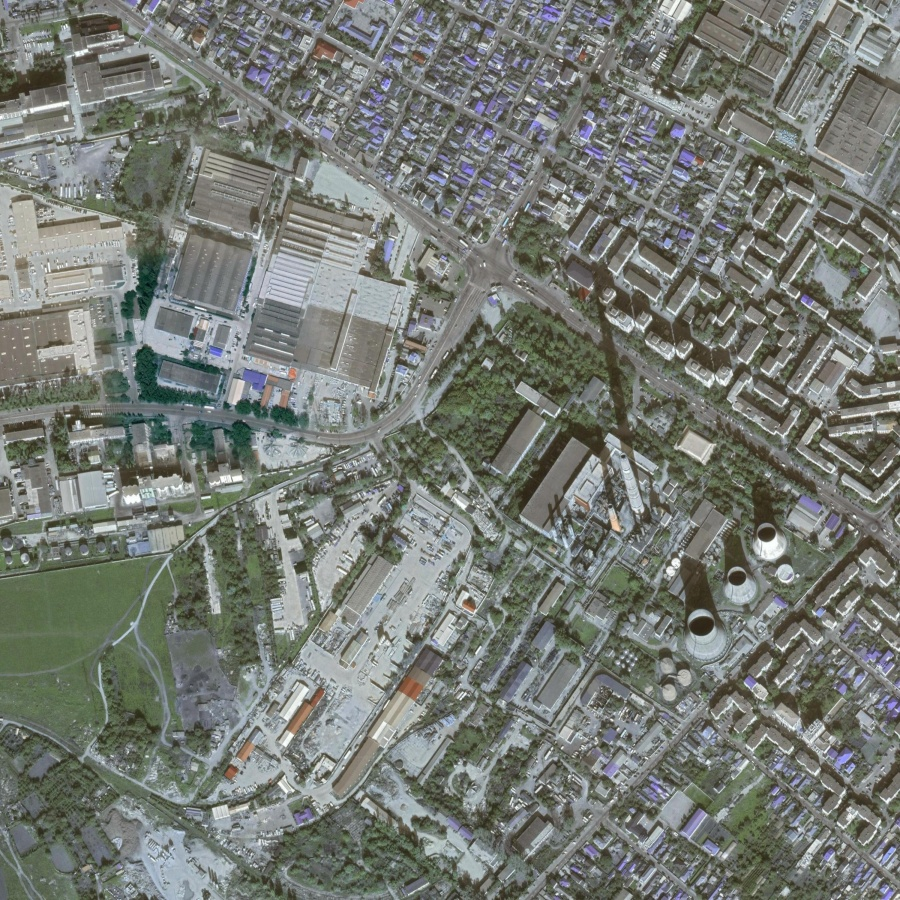PowerPlant: (527, 344, 813, 688)
